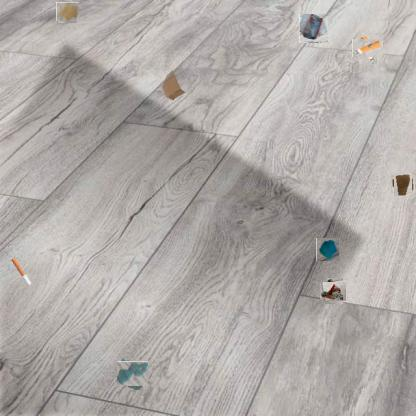dirty: (161, 68, 187, 102), (299, 14, 328, 43), (10, 256, 32, 284), (356, 36, 380, 61), (316, 238, 340, 261), (322, 280, 344, 302), (392, 173, 414, 194)
liquid: (118, 360, 147, 388), (57, 1, 78, 22)
